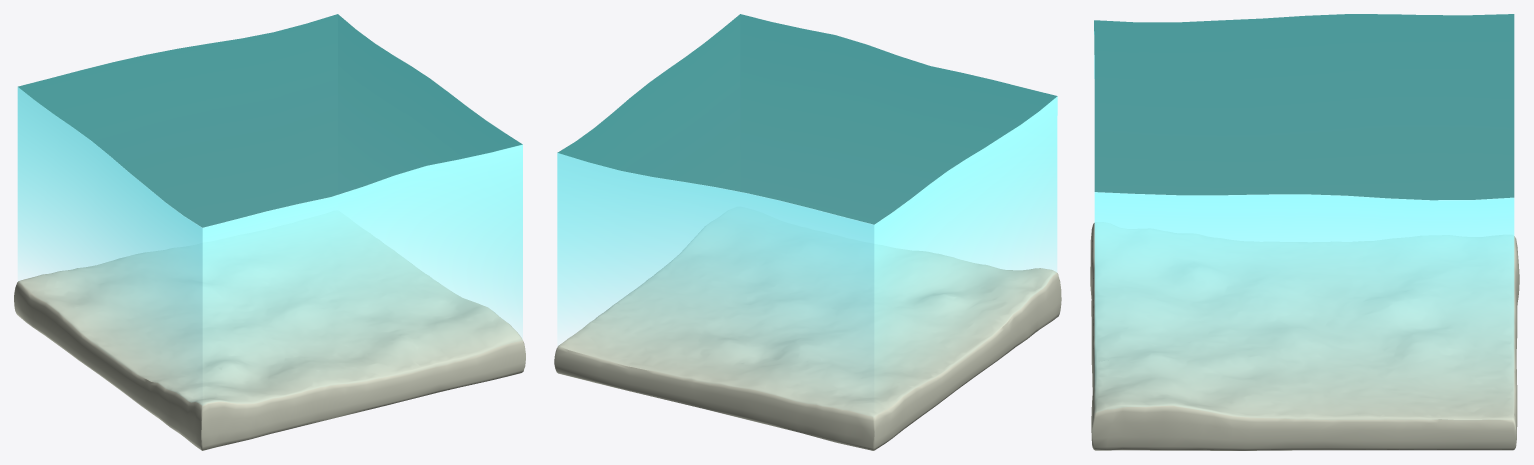
File: Babilon_scene.glb
3 renders of one model, left to right at view 1: azimuth 30°, elevation 25°; view 2: azimuth 150°, elevation 25°; view 3: azimuth 270°, elevation 25°, orthographic. The views are drawn at different scales.
Parts seen in each view (by area): view 1: Water-WaterWalls, sand, Water-SurfaceWater; view 2: Water-WaterWalls, sand, Water-SurfaceWater; view 3: sand, Water-WaterWalls, Water-SurfaceWater.
Part boxes in pixels (x1=…): Water-WaterWalls: x1=17, y1=87, x2=522, y2=404; sand: x1=14, y1=222, x2=525, y2=450; Water-SurfaceWater: x1=18, y1=14, x2=522, y2=227; Water-WaterWalls: x1=557, y1=96, x2=1057, y2=402; sand: x1=554, y1=218, x2=1061, y2=450; Water-SurfaceWater: x1=557, y1=14, x2=1057, y2=224; sand: x1=1090, y1=223, x2=1519, y2=450; Water-WaterWalls: x1=1094, y1=31, x2=1514, y2=400; Water-SurfaceWater: x1=1094, y1=14, x2=1514, y2=200.
Size of the model in its own units: 513 by 347 by 515.
3 materials, 1 textured.
